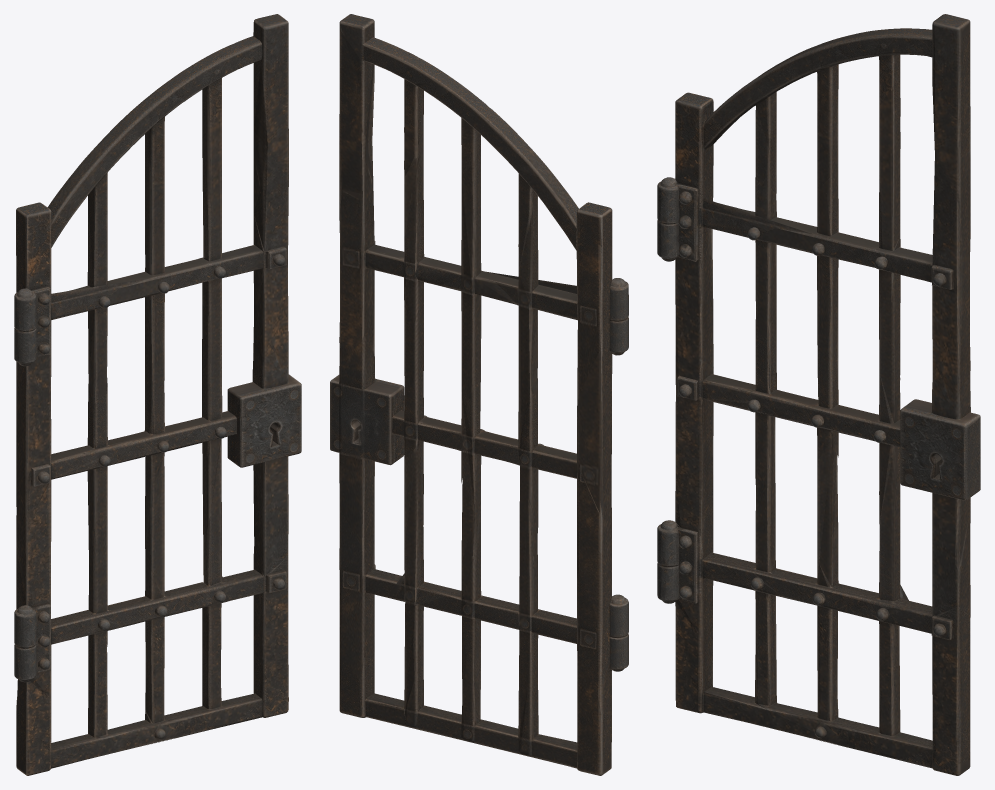
The model's file is jail_gate.glb.
3 renders of one model, left to right at view 1: azimuth 30°, elevation 25°; view 2: azimuth 150°, elevation 25°; view 3: azimuth 330°, elevation 25°, orthographic. The views are drawn at different scales.
Visible parts, largest first — view 1: Mesh_0; view 2: Mesh_0; view 3: Mesh_0.
Part boxes in pixels (x1=…): Mesh_0: x1=14, y1=14, x2=301, y2=775; Mesh_0: x1=330, y1=14, x2=628, y2=775; Mesh_0: x1=657, y1=14, x2=980, y2=775.
Bounding box in the file's own units: 0.8208 × 1.9 × 0.0946.
Materials: 1 (1 with a texture image).
